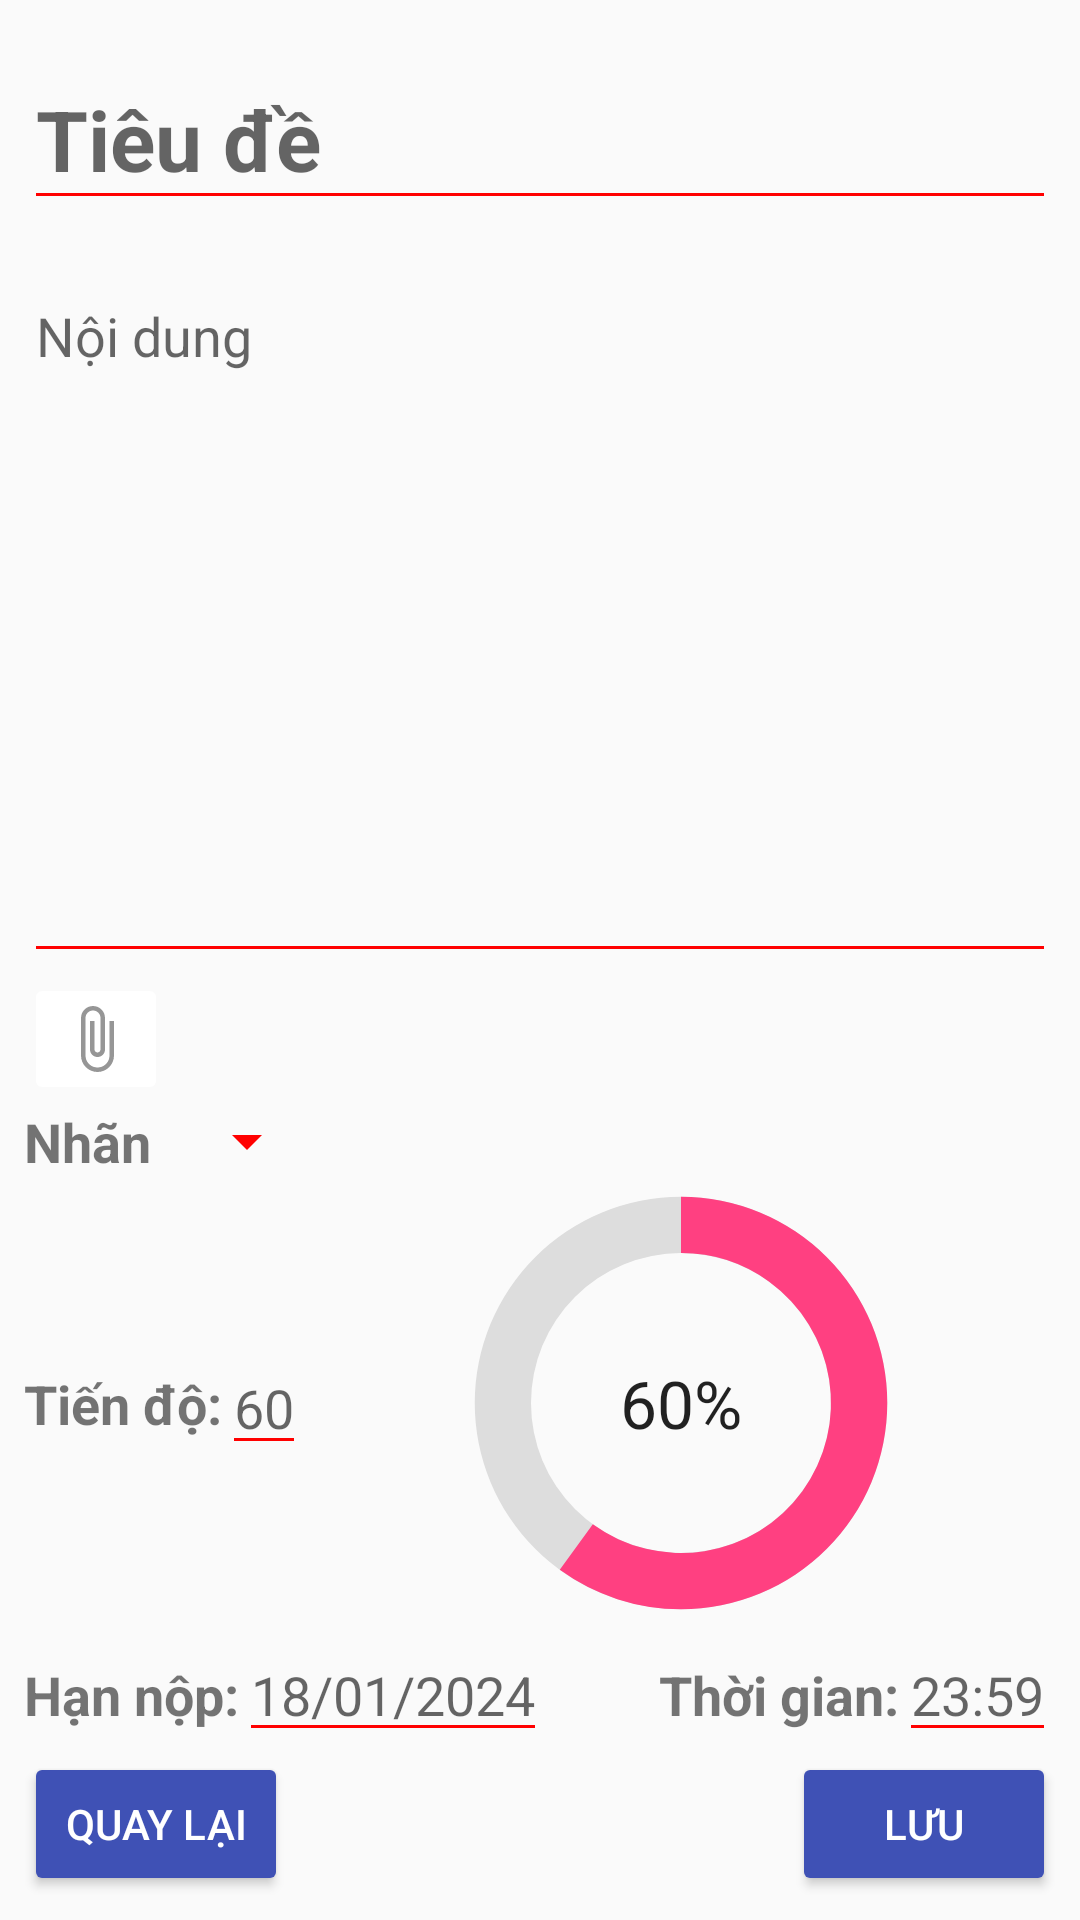

Where to tap for icons on this 1080 × 1920 app screen, as [x,y]:
attach file: [97,1039]
